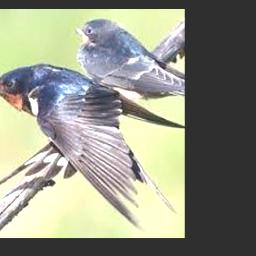Swallow: (0, 64, 185, 230), (77, 18, 185, 94)
